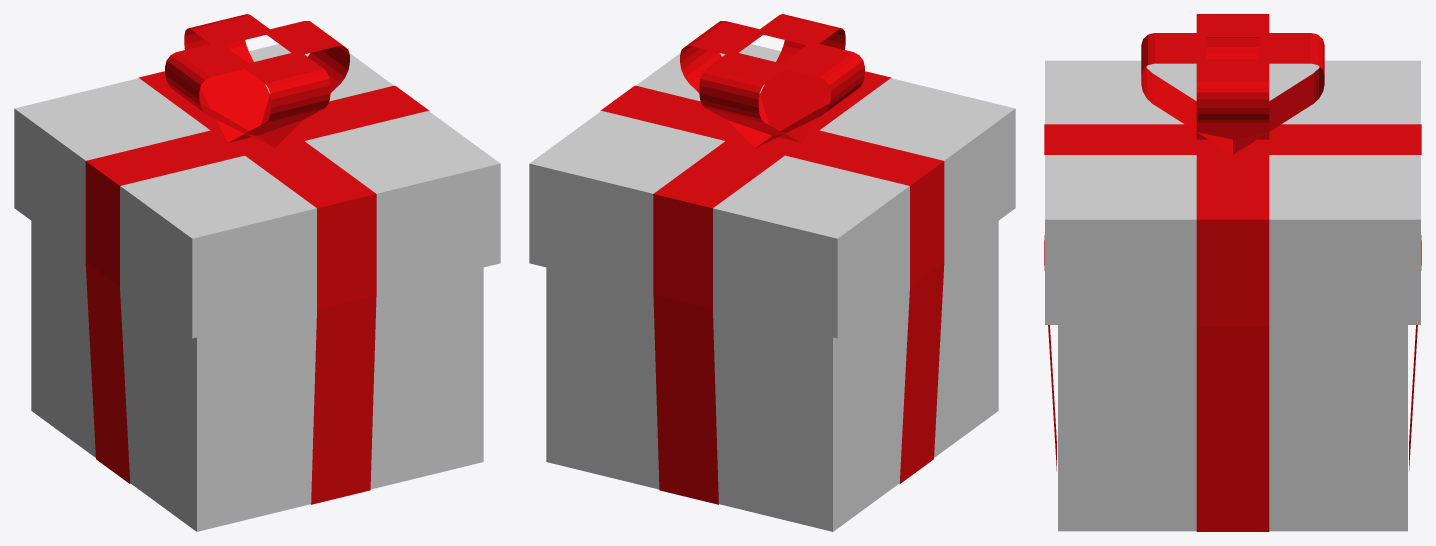
File: giftbox.glb
3 views of the same model, side by side, from view 1: azimuth 30°, elevation 25°; view 2: azimuth 150°, elevation 25°; view 3: azimuth 270°, elevation 25° (orthographic). The views are drawn at different scales.
Parts seen in each view (by area): view 1: Cube, Plane.001, Plane; view 2: Cube, Plane.001, Plane; view 3: Cube, Plane, Plane.001.
Part boxes in pixels (x1,y1,x2,y2): Cube: (14, 44, 500, 531); Plane.001: (138, 14, 376, 504); Plane: (85, 21, 429, 483); Cube: (529, 44, 1015, 531); Plane.001: (653, 14, 891, 504); Plane: (600, 21, 944, 483); Cube: (1045, 60, 1420, 531); Plane: (1196, 14, 1269, 531); Plane.001: (1044, 33, 1421, 470).
Bounding box in the file's own units: 2.16 × 2.58 × 2.16.
